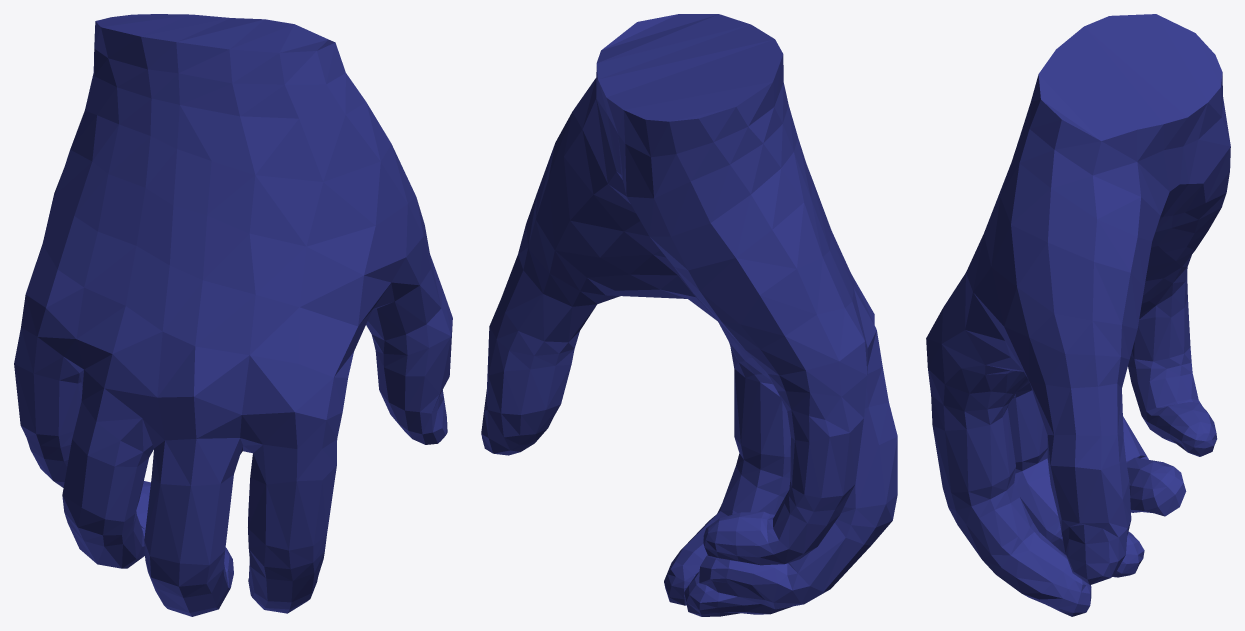
3 views of the same model, side by side, from view 1: azimuth 30°, elevation 25°; view 2: azimuth 150°, elevation 25°; view 3: azimuth 270°, elevation 25° (orthographic). The views are drawn at different scales.
Size of the model in its own units: 0.1168 by 0.1642 by 0.0834.
